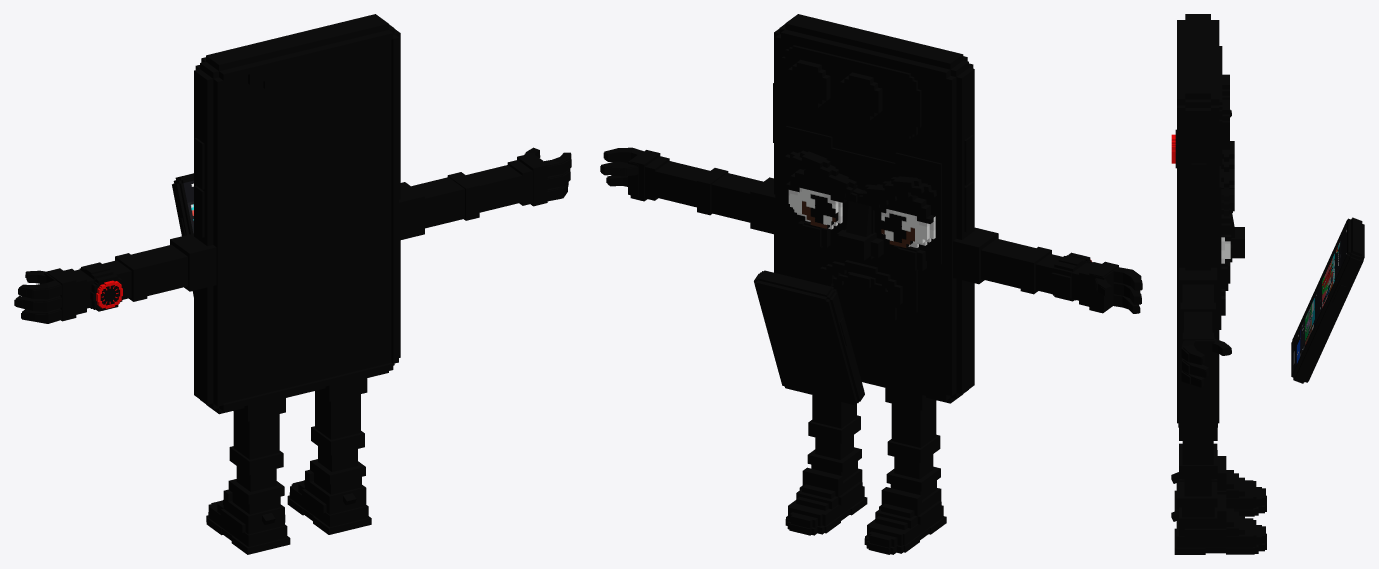
The model's file is steal_a_brainrot_celularcini_viciosini.glb.
3 views of the same model, side by side, from view 1: azimuth 30°, elevation 25°; view 2: azimuth 150°, elevation 25°; view 3: azimuth 270°, elevation 25° (orthographic). The views are drawn at different scales.
Parts seen in each view (by area): view 1: Object_6, Object_16, Object_7, Object_9, Object_14, Object_8; view 2: Object_16, Object_7, Object_17, Object_8, Object_14, Object_9, Object_4, Object_10, Object_6, Object_18; view 3: Object_16, Object_7, Object_14, Object_8, Object_9, Object_4, Object_10, Object_6, Object_17.
Boxes of the visible parts, x1=… form: Object_6: x1=223, y1=40, x2=391, y2=403; Object_16: x1=15, y1=30, x2=570, y2=491; Object_7: x1=14, y1=14, x2=571, y2=475; Object_9: x1=206, y1=459, x2=371, y2=554; Object_14: x1=100, y1=285, x2=368, y2=546; Object_8: x1=172, y1=173, x2=193, y2=296; Object_16: x1=600, y1=29, x2=1141, y2=479; Object_7: x1=600, y1=14, x2=1142, y2=462; Object_17: x1=785, y1=126, x2=941, y2=319; Object_8: x1=754, y1=270, x2=864, y2=404; Object_14: x1=788, y1=68, x2=943, y2=547; Object_9: x1=785, y1=447, x2=946, y2=554; Object_4: x1=788, y1=188, x2=935, y2=247; Object_10: x1=784, y1=150, x2=936, y2=205; Object_6: x1=788, y1=59, x2=882, y2=120; Object_18: x1=1051, y1=255, x2=1087, y2=301; Object_16: x1=1177, y1=20, x2=1244, y2=496; Object_7: x1=1178, y1=14, x2=1232, y2=478; Object_14: x1=1176, y1=456, x2=1265, y2=547; Object_8: x1=1291, y1=217, x2=1364, y2=383; Object_9: x1=1171, y1=443, x2=1266, y2=554; Object_4: x1=1221, y1=226, x2=1346, y2=370; Object_10: x1=1221, y1=141, x2=1234, y2=216; Object_6: x1=1222, y1=74, x2=1229, y2=149; Object_17: x1=1219, y1=166, x2=1221, y2=329.
Size of the model in its own units: 12.05 by 10.17 by 3.77.
15 materials, 15 textured.
